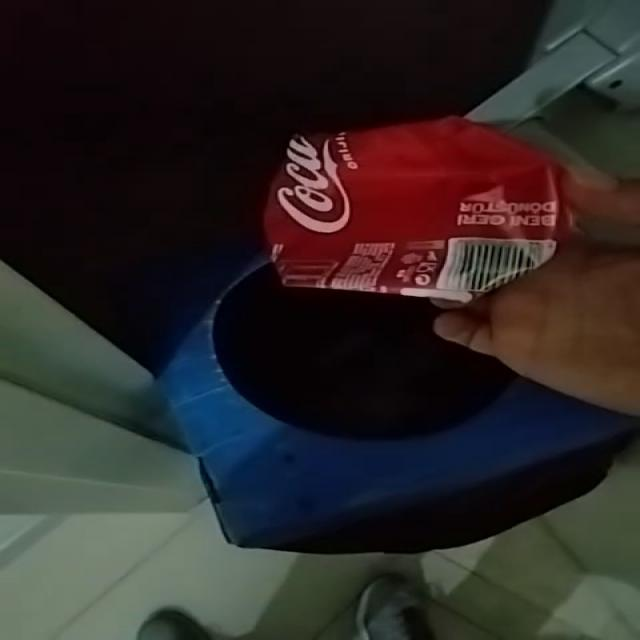bin: (160, 319, 639, 554), (215, 266, 517, 438)
metal: (161, 319, 639, 554)
